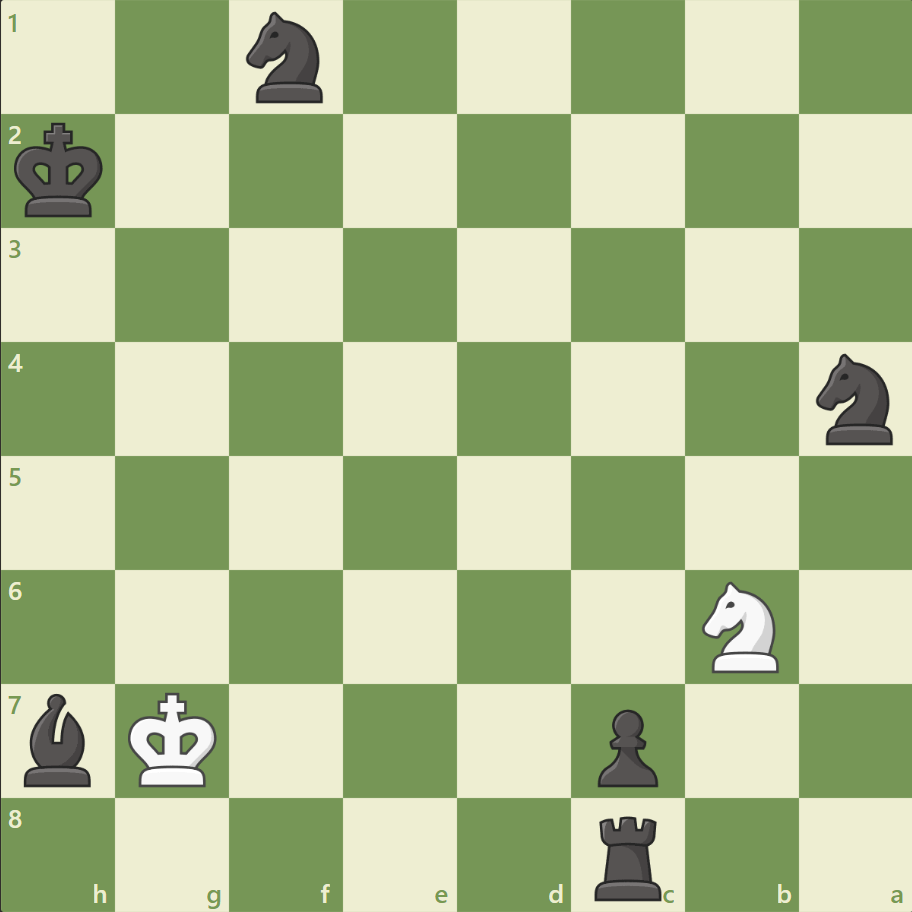K: (124, 685, 224, 793)
N: (692, 575, 789, 677)
b: (17, 687, 101, 790)
k: (11, 117, 111, 225)
n: (238, 7, 335, 110), (806, 348, 903, 450)
p: (588, 700, 662, 791)
r: (587, 806, 670, 904)
